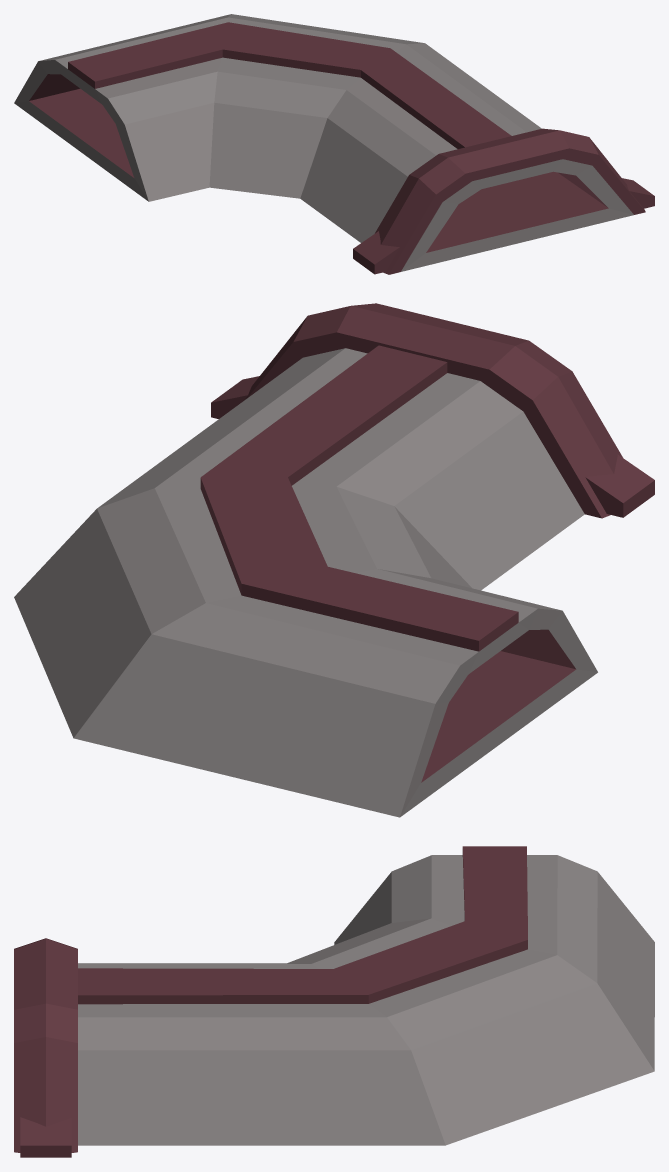
Rendered from scifi-vent-curve.fbx.
3 renders of one model, top to bottom at view 1: azimuth 30°, elevation 25°; view 2: azimuth 150°, elevation 25°; view 3: azimuth 270°, elevation 25°, orthographic. The views are drawn at different scales.
Visible parts, largest first — view 1: scifi-vent-curve; view 2: scifi-vent-curve; view 3: scifi-vent-curve.
Boxes of the visible parts, x1,y1,x2,y2 form: scifi-vent-curve: [14, 14, 654, 274]; scifi-vent-curve: [14, 303, 654, 817]; scifi-vent-curve: [14, 846, 654, 1157].
Size of the model in its own units: 1.6 by 0.3688 by 2.
